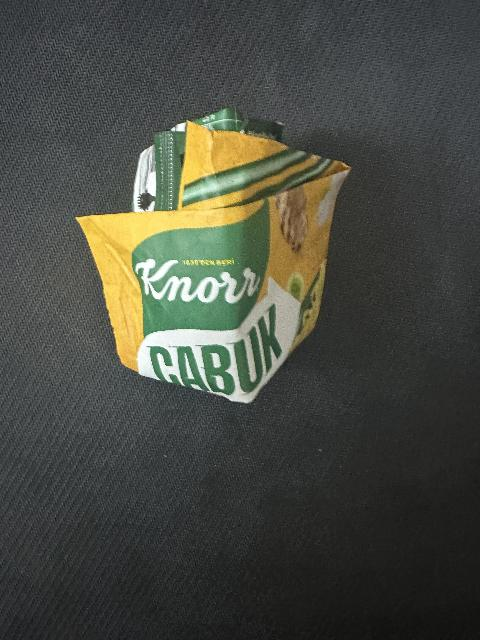Plastik: (73, 114, 344, 400)
